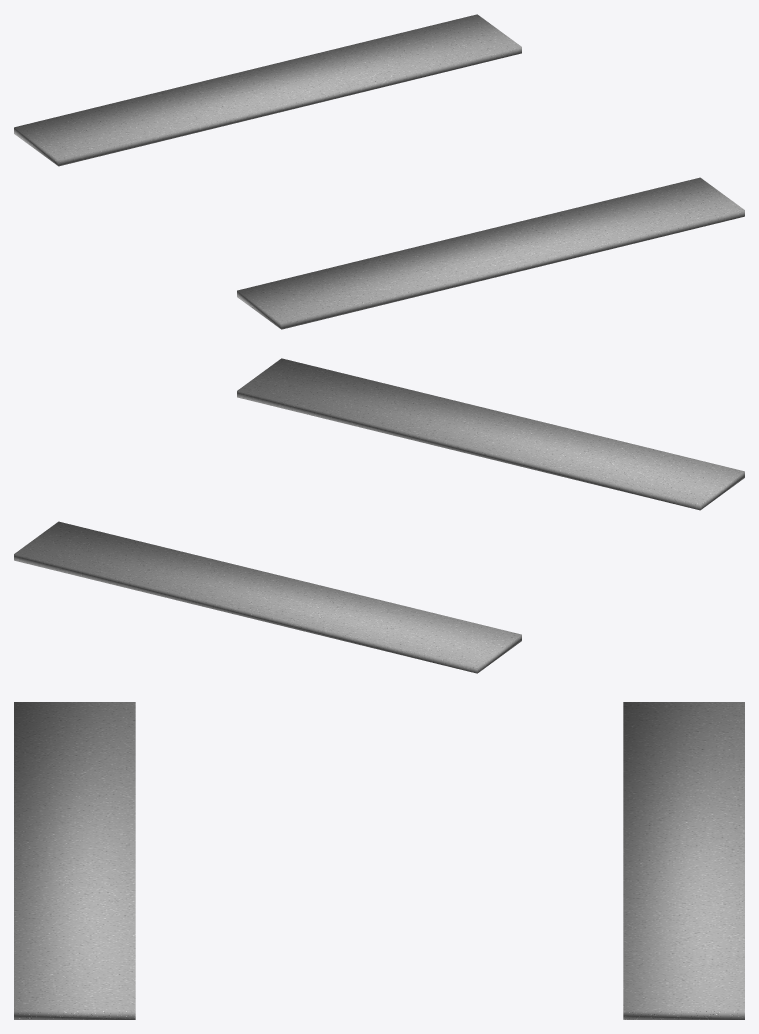
File: NROAD_15x15_straight.obj
The picture shows the model from 3 angles, top to bottom: view 1: azimuth 30°, elevation 25°; view 2: azimuth 150°, elevation 25°; view 3: azimuth 270°, elevation 25°; orthographic projection. The views are drawn at different scales.
Parts seen in each view (by area): view 1: Cube1; view 2: Cube1; view 3: Cube1.
Part boxes in pixels (<box>): Cube1: <box>14,14,744,329</box>; Cube1: <box>14,358,744,673</box>; Cube1: <box>14,702,744,1019</box>.
Bounding box in the file's own units: 15 × 0.2 × 15.
